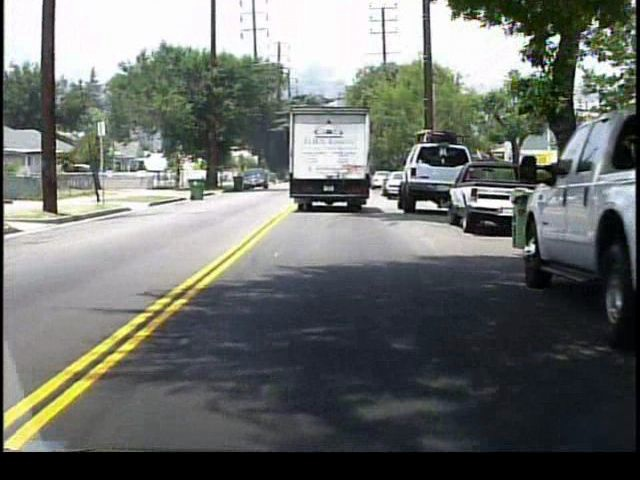person: (175, 165, 186, 190)
